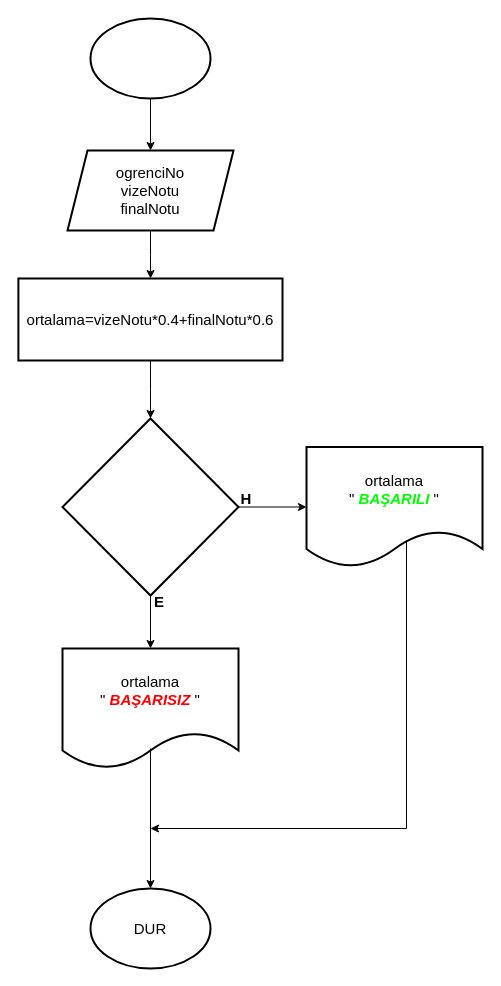
Image size: 501x986. Some labels were removed from this diagram. Each missing label, with the centre of its shape:
"BAŞLA" goes at point 150,58.
"ortalama<50" goes at point 150,506.
